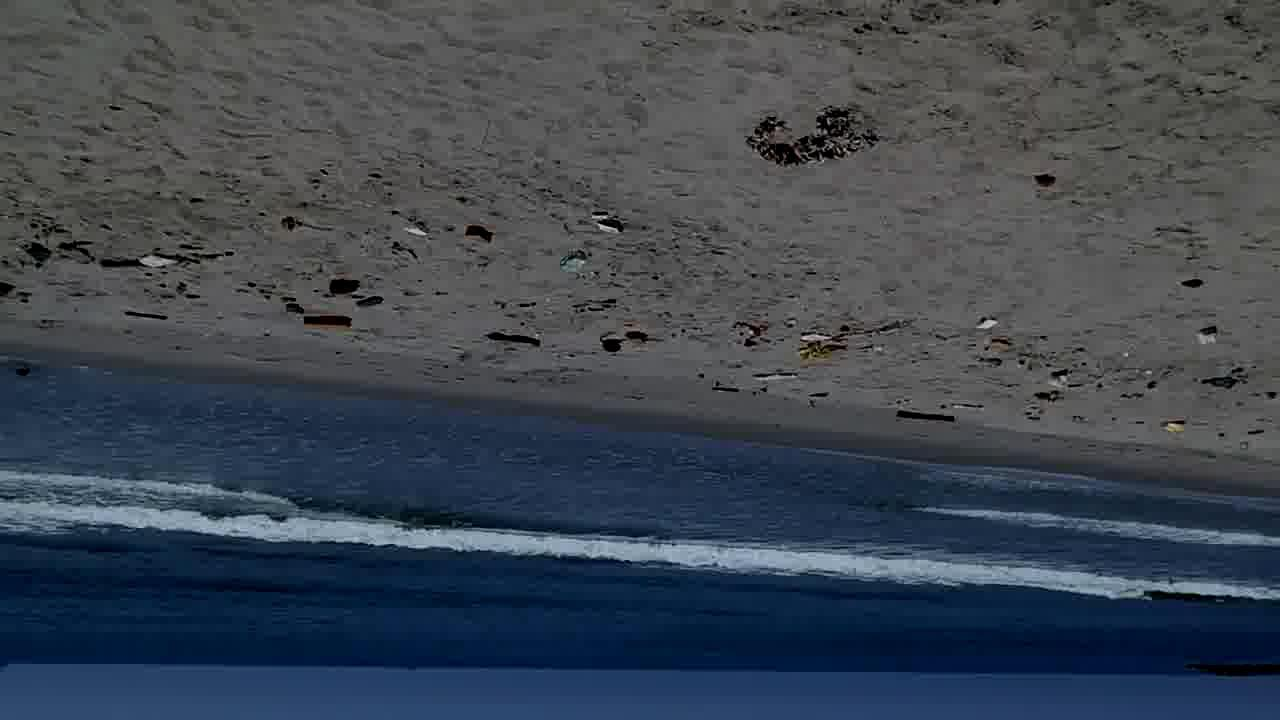obj: (738, 99, 882, 170), (484, 328, 548, 357), (838, 318, 912, 340), (892, 408, 958, 428), (279, 216, 333, 238), (796, 340, 849, 362), (302, 314, 354, 330), (588, 213, 628, 233), (1192, 328, 1220, 354), (141, 255, 194, 268), (463, 226, 490, 251), (598, 333, 624, 356), (749, 372, 798, 384), (330, 278, 360, 296), (356, 293, 385, 310), (1034, 174, 1060, 190), (400, 224, 430, 235)
sand/background: (1, 345, 1279, 719)
